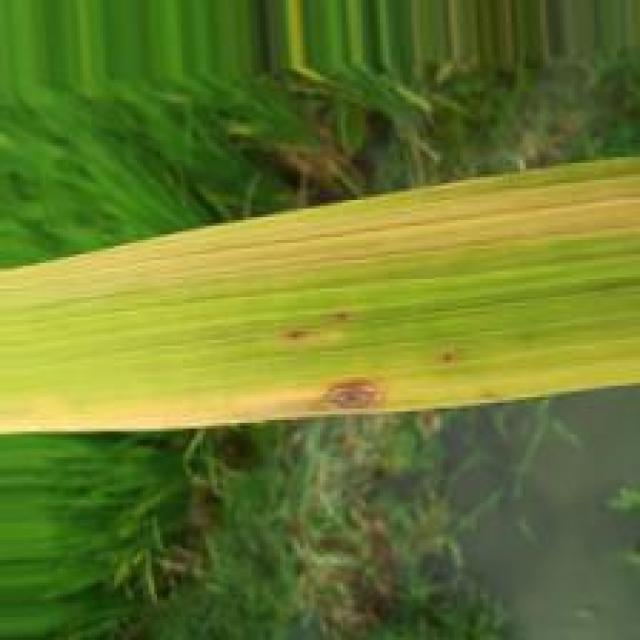Narrow_Brown_Leaf_Spot: (6, 176, 640, 301), (0, 347, 640, 432), (278, 326, 320, 345), (326, 308, 355, 327)
